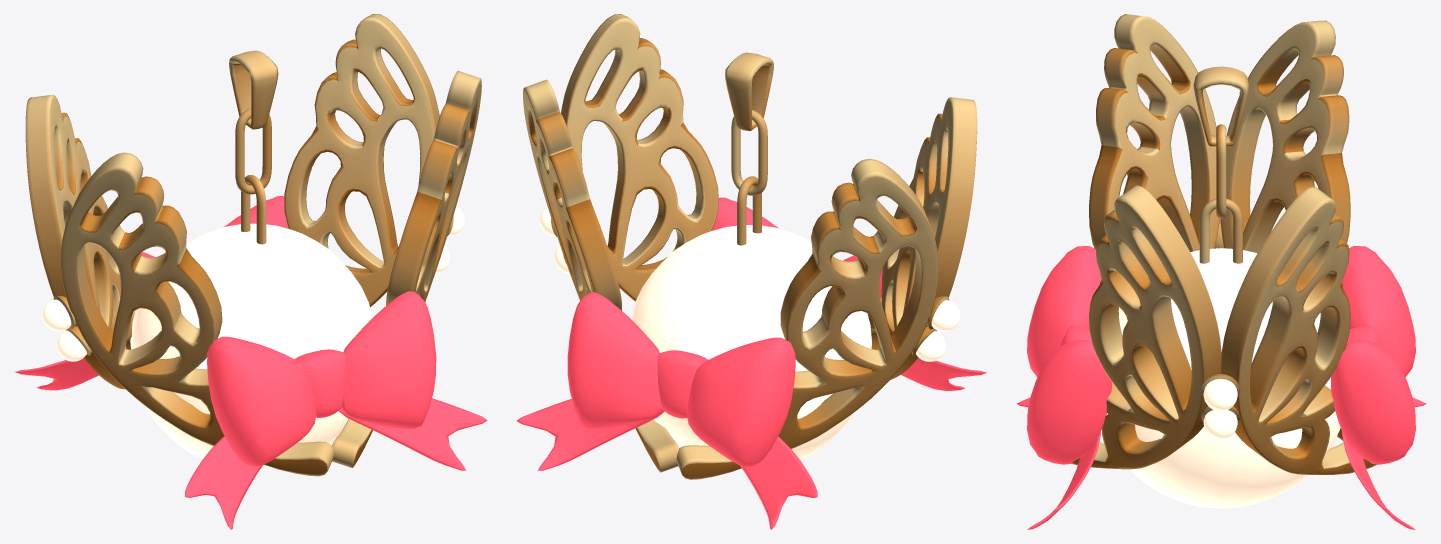
File: necklace.fbx
The picture shows the model from 3 angles, left to right: view 1: azimuth 30°, elevation 25°; view 2: azimuth 150°, elevation 25°; view 3: azimuth 270°, elevation 25°; orthographic projection. The views are drawn at different scales.
Visible parts, largest first — view 1: polySurface17; view 2: polySurface17; view 3: polySurface17.
Part boxes in pixels (<box>): polySurface17: <box>15,14,487,529</box>; polySurface17: <box>516,14,987,529</box>; polySurface17: <box>1016,14,1426,529</box>.
Bounding box in the file's own units: 69.85 × 64.61 × 56.38.
